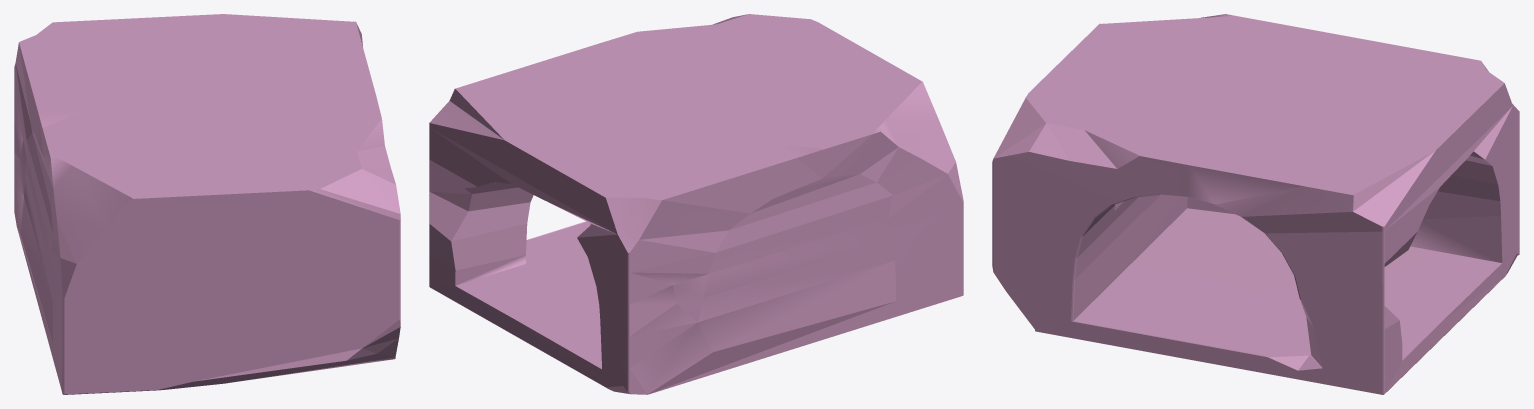
File: chatka_final_closed.fbx
3 renders of one model, left to right at view 1: azimuth 30°, elevation 25°; view 2: azimuth 150°, elevation 25°; view 3: azimuth 270°, elevation 25°, orthographic. The views are drawn at different scales.
Visible parts, largest first — view 1: kocia_chatka_dwa_drzwi_splaszczona.002; view 2: kocia_chatka_dwa_drzwi_splaszczona.002; view 3: kocia_chatka_dwa_drzwi_splaszczona.002.
Part boxes in pixels (x1,y1,x2,y2): kocia_chatka_dwa_drzwi_splaszczona.002: [14, 14, 400, 394]; kocia_chatka_dwa_drzwi_splaszczona.002: [429, 14, 963, 394]; kocia_chatka_dwa_drzwi_splaszczona.002: [992, 14, 1519, 394].
Bounding box in the file's own units: 445 × 198 × 486.
